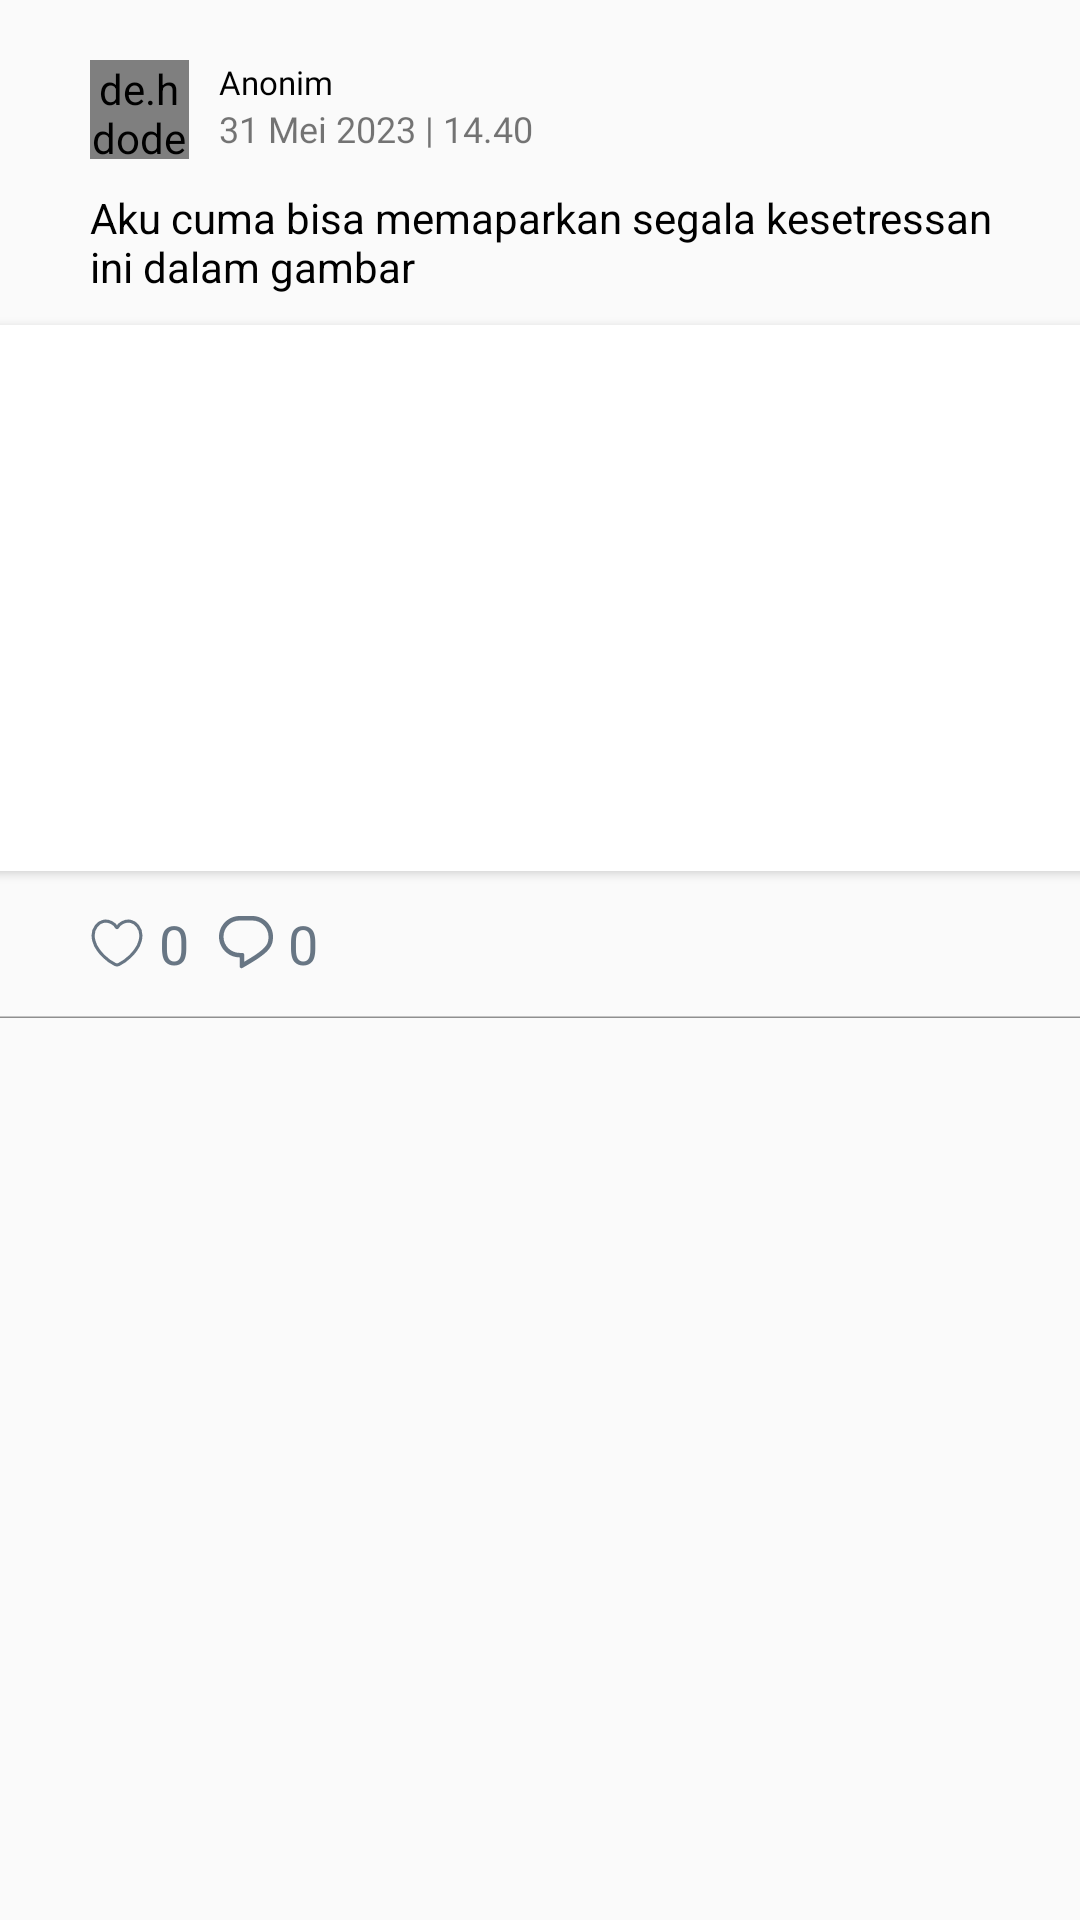

Screen size 1080w x 1920h. Icon name, then its center in pixels as [x,y]:
comment: [246,942]
like: [117,943]
